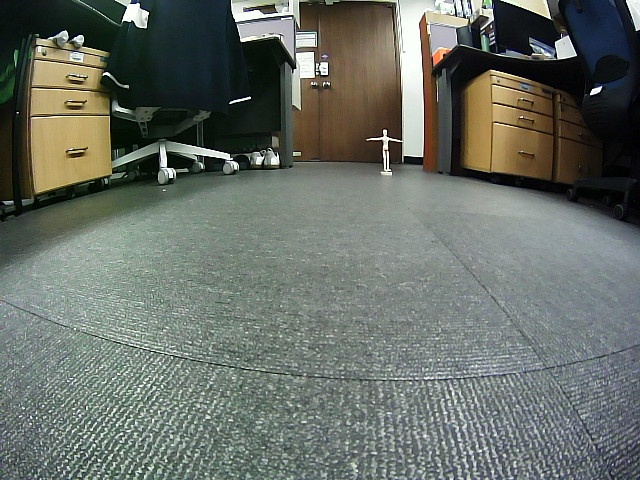person: (366, 130, 403, 171)
